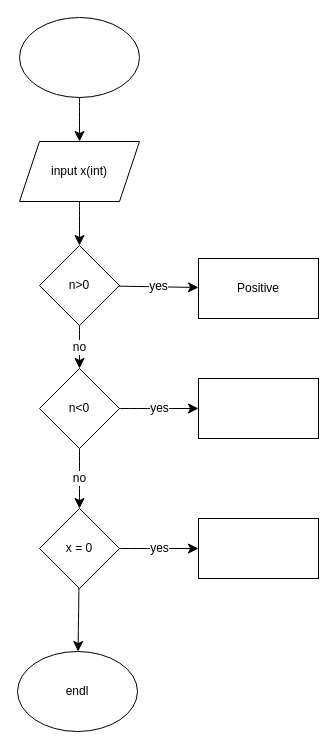
Some shapes in this 336 by 749 pixel diagram are drawn without their labels. The shapes that lost their labels are listed below. From the top down, each one's centre as x and y in pixels, then its label:
point (79, 57): start
point (258, 408): negative
point (258, 548): zero
